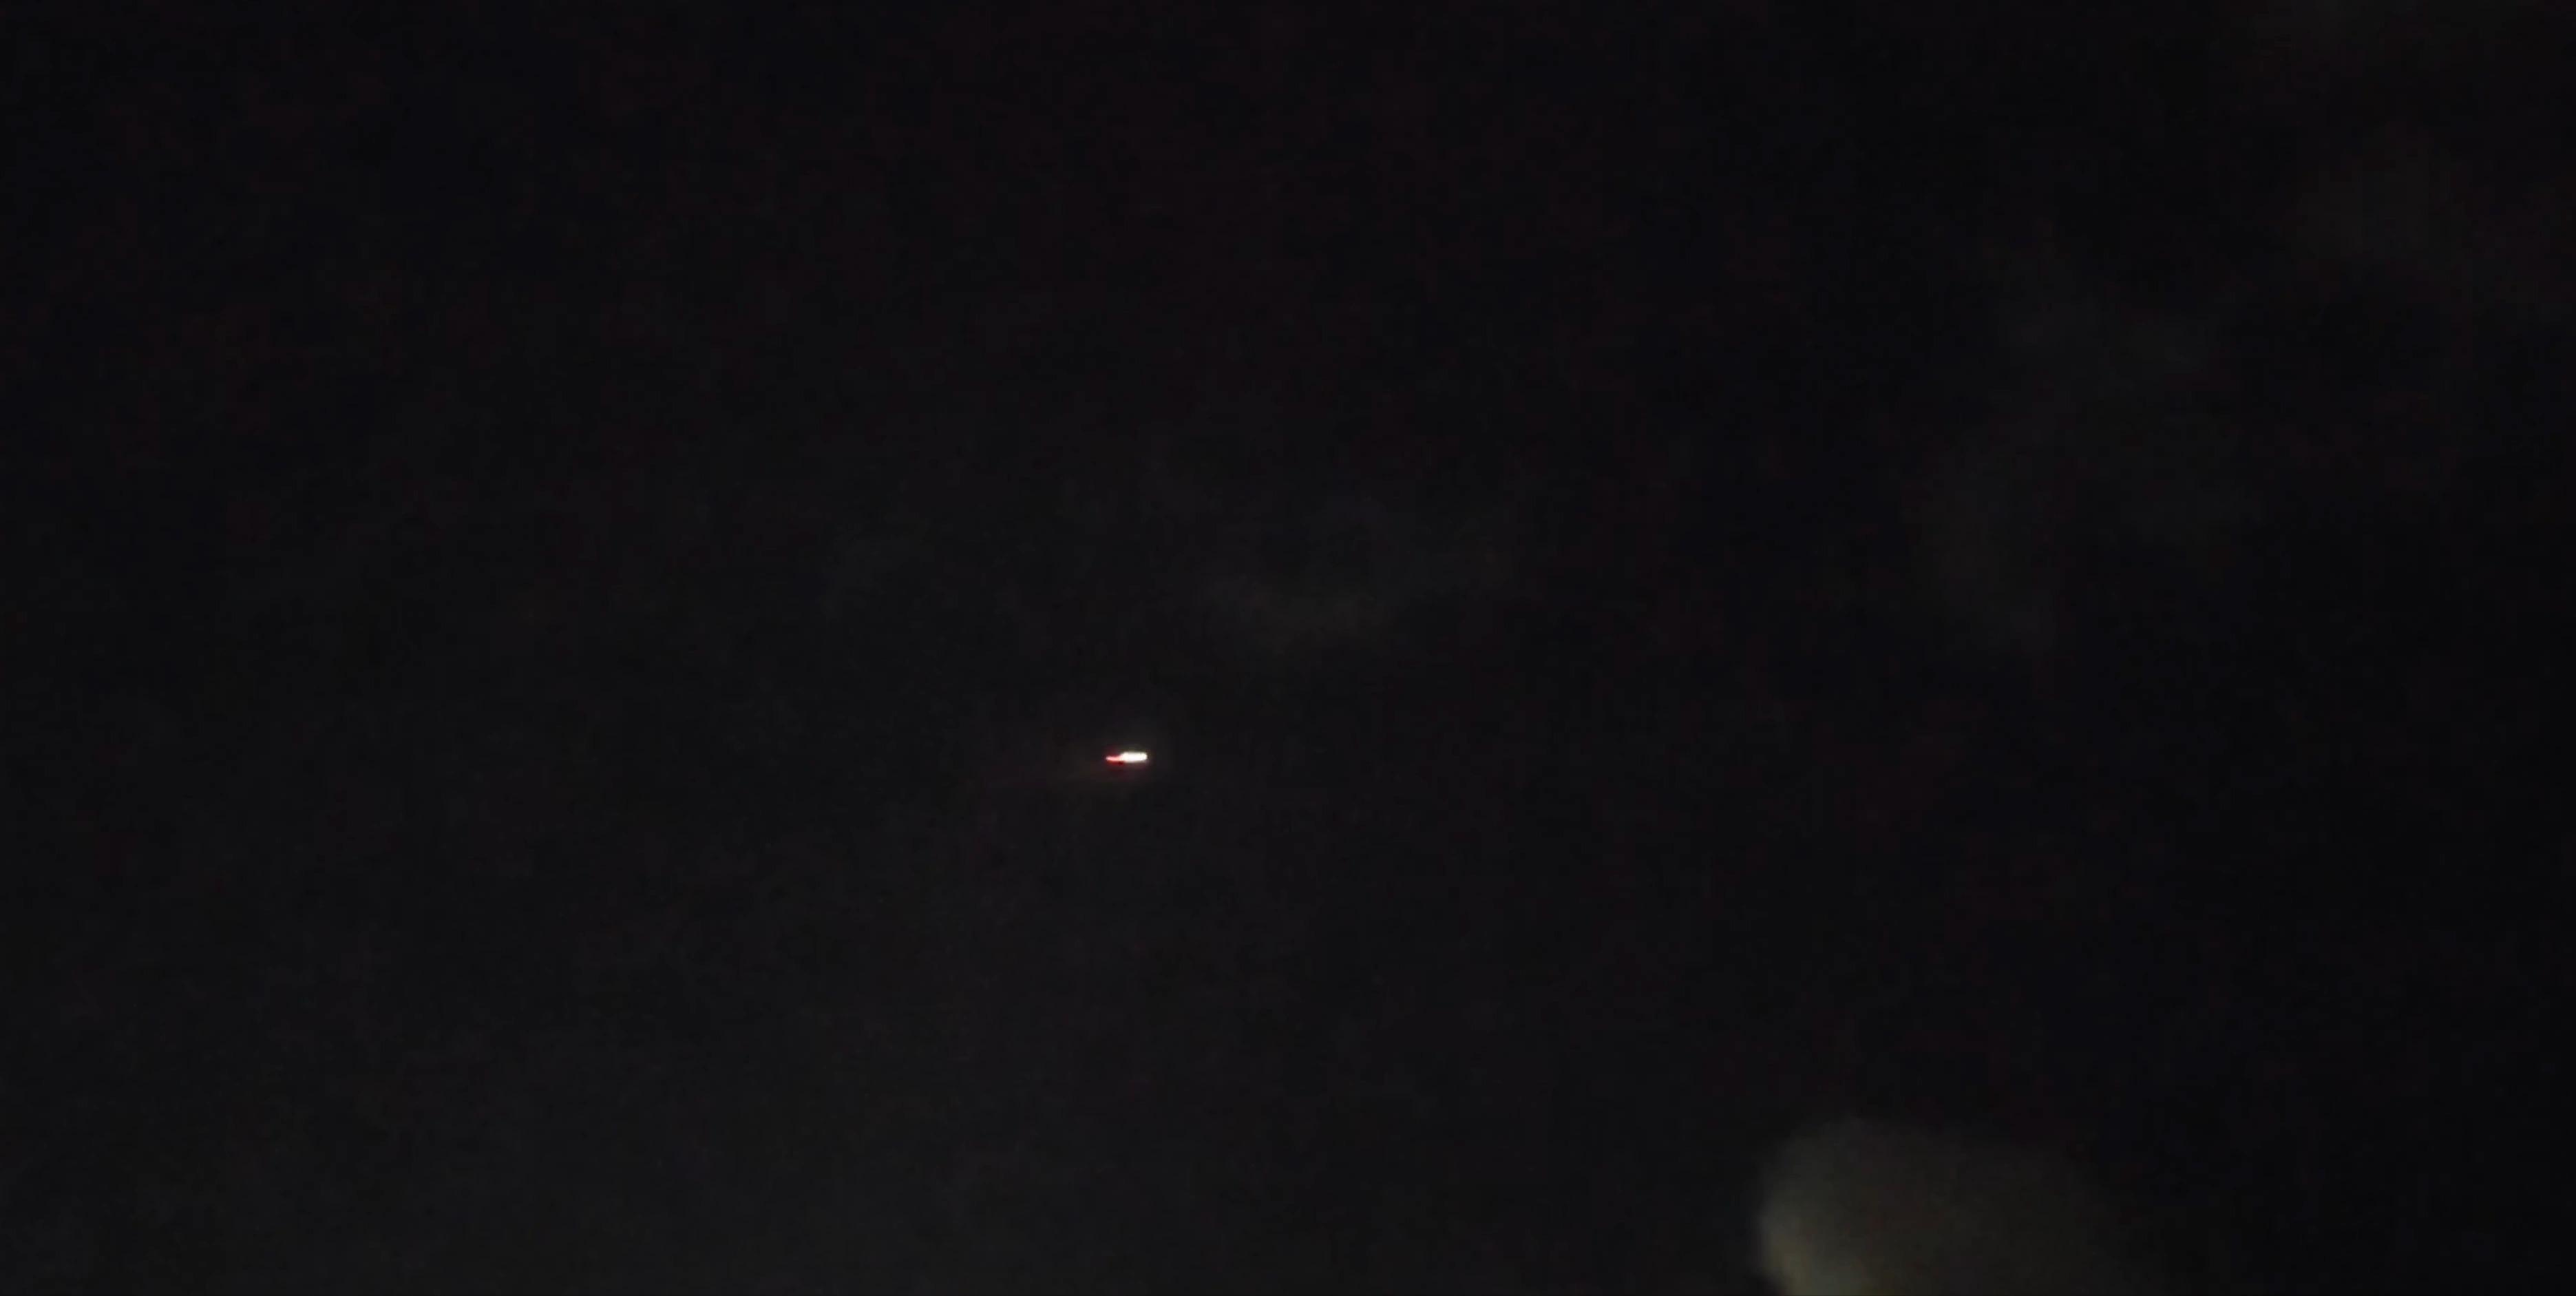Plane: (1028, 726, 1234, 812)
